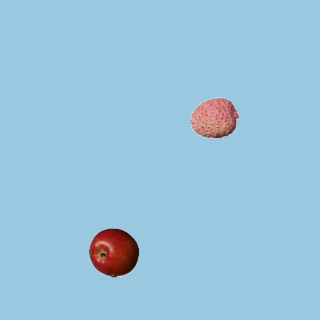Apple Braeburn: (88, 227, 138, 277)
Lychee: (189, 92, 239, 142)
